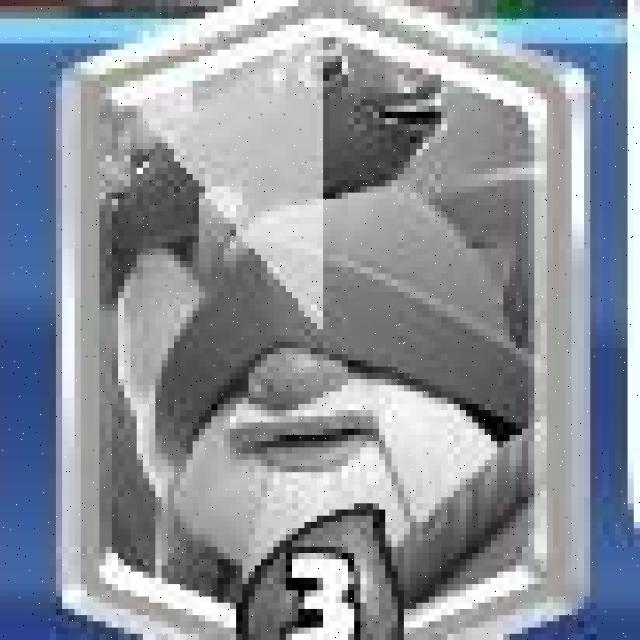Fisherman: (55, 1, 582, 640)
